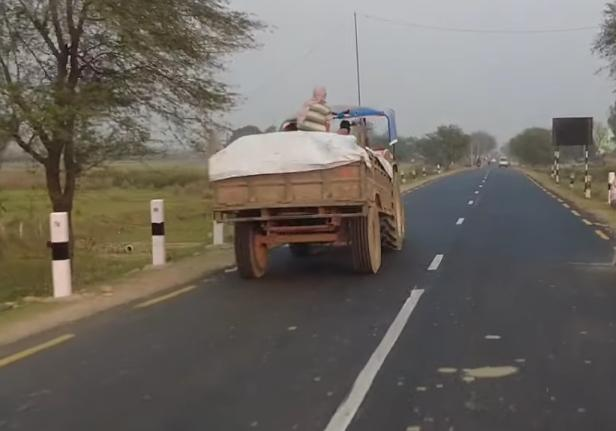tractor: (204, 90, 408, 288)
